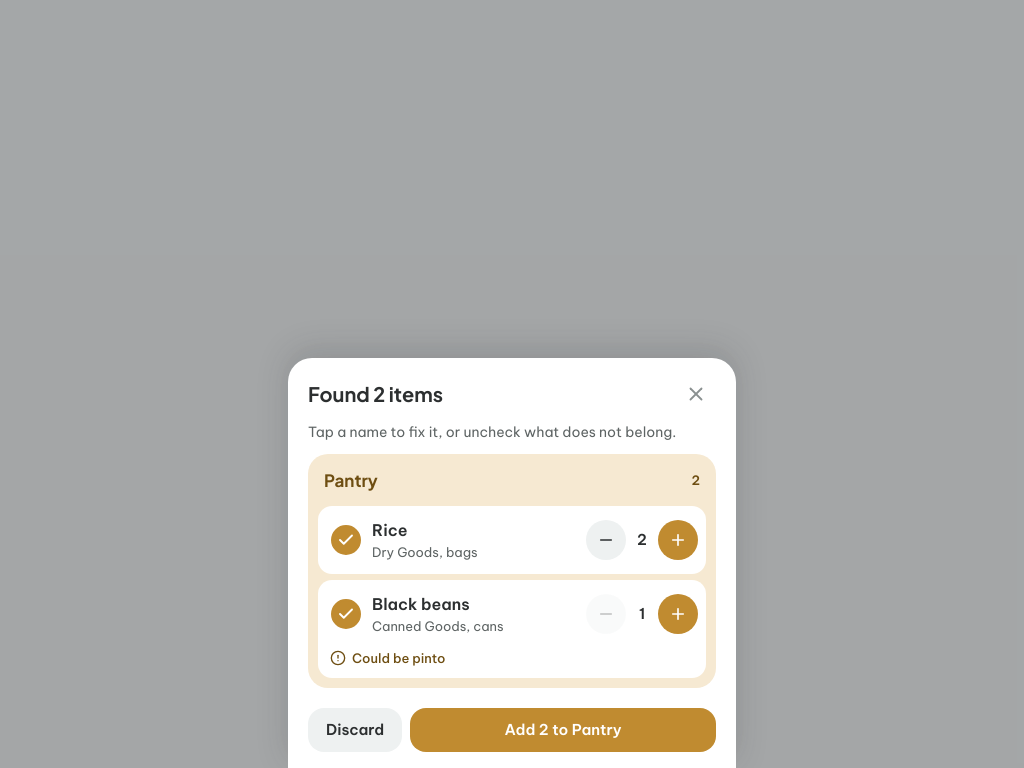
Test: ScanReviewSheet › with nothing selected the confirm is disabled
This screenshot has width=1024, height=768.
Click the checkbox named "Include Rice". click: [346, 540]
box: [326,520,366,560]
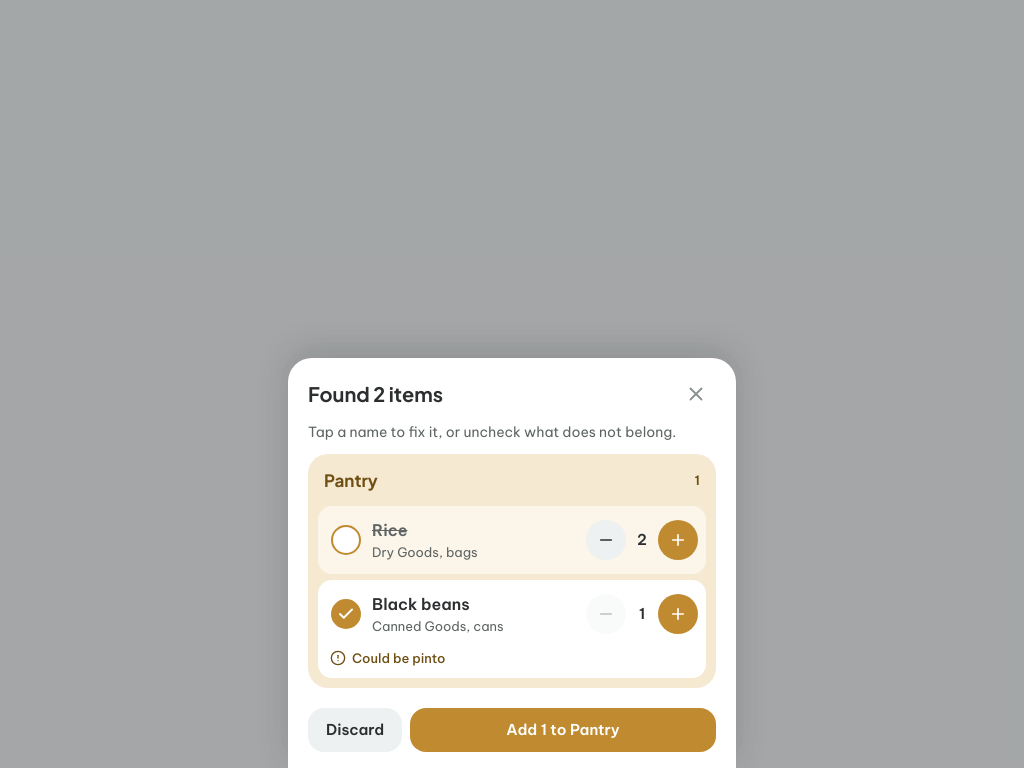
Click the checkbox named "Include Black beans". click: [346, 614]
box: [326,594,366,634]
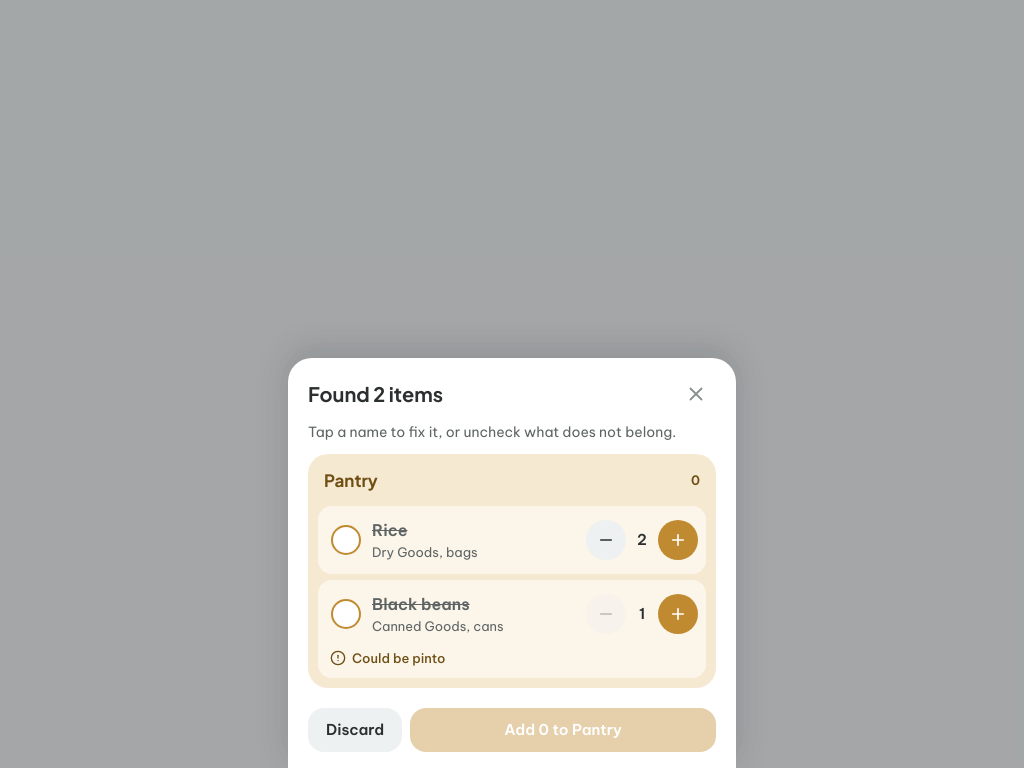
Check: the button "Add 0 to Pantry" is disabled, box [410,708,716,752]
